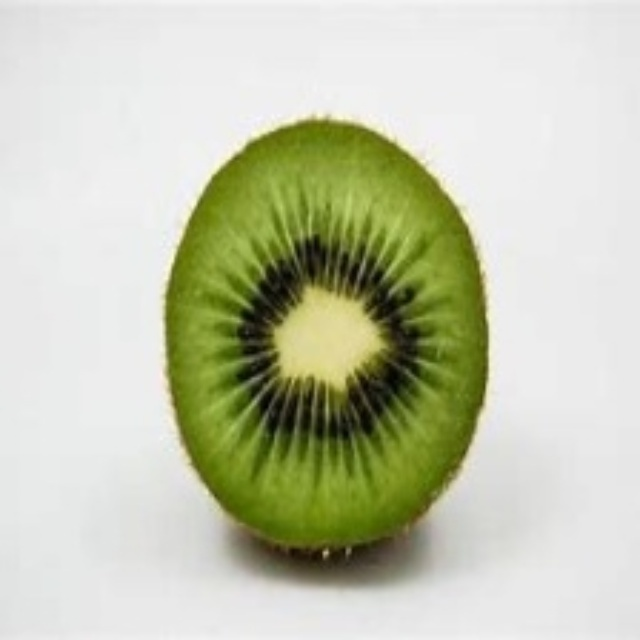kiwi: (147, 115, 514, 567)
